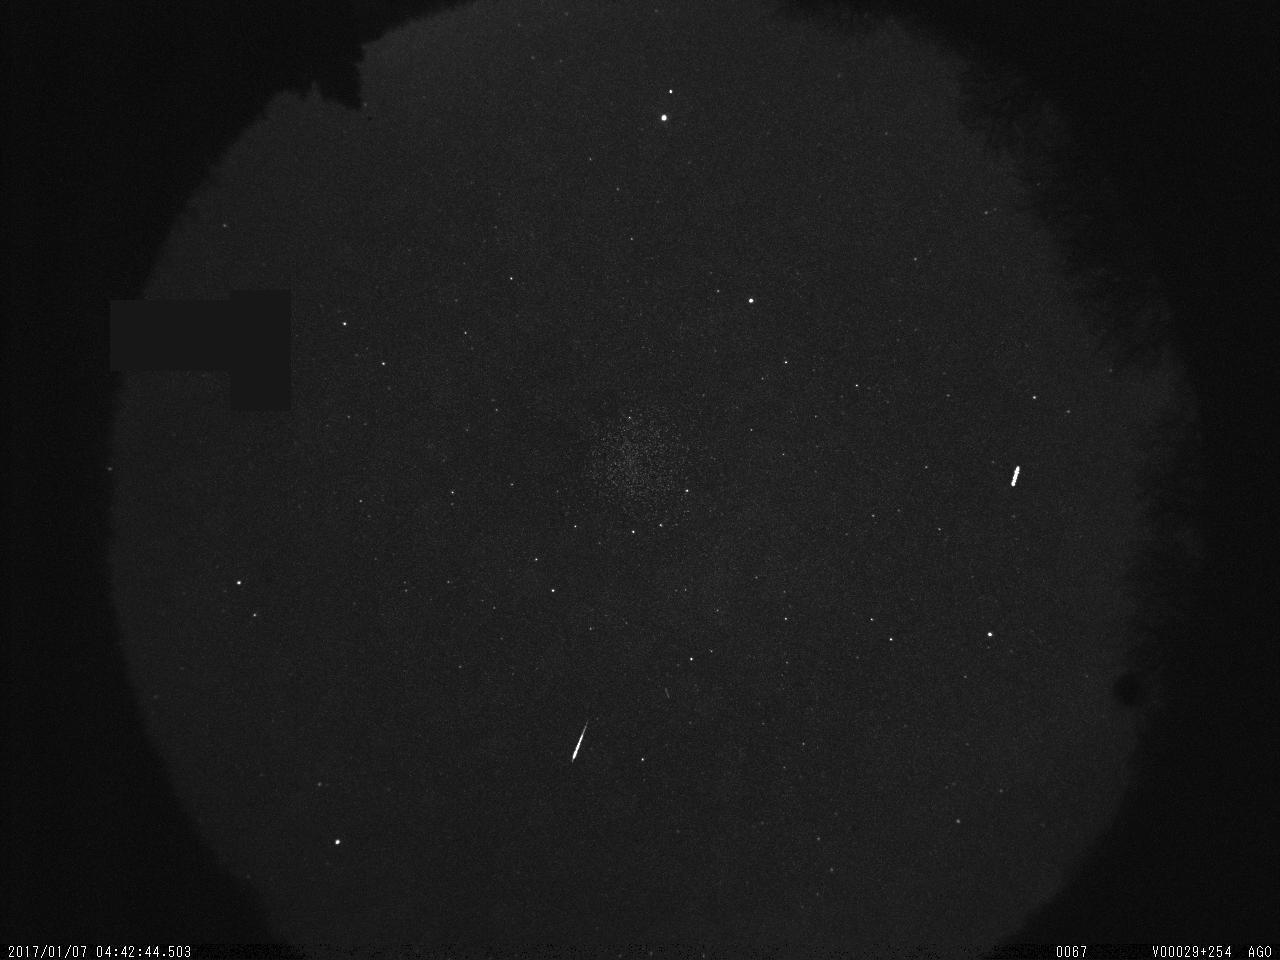Meteor: (568, 712, 592, 774)
